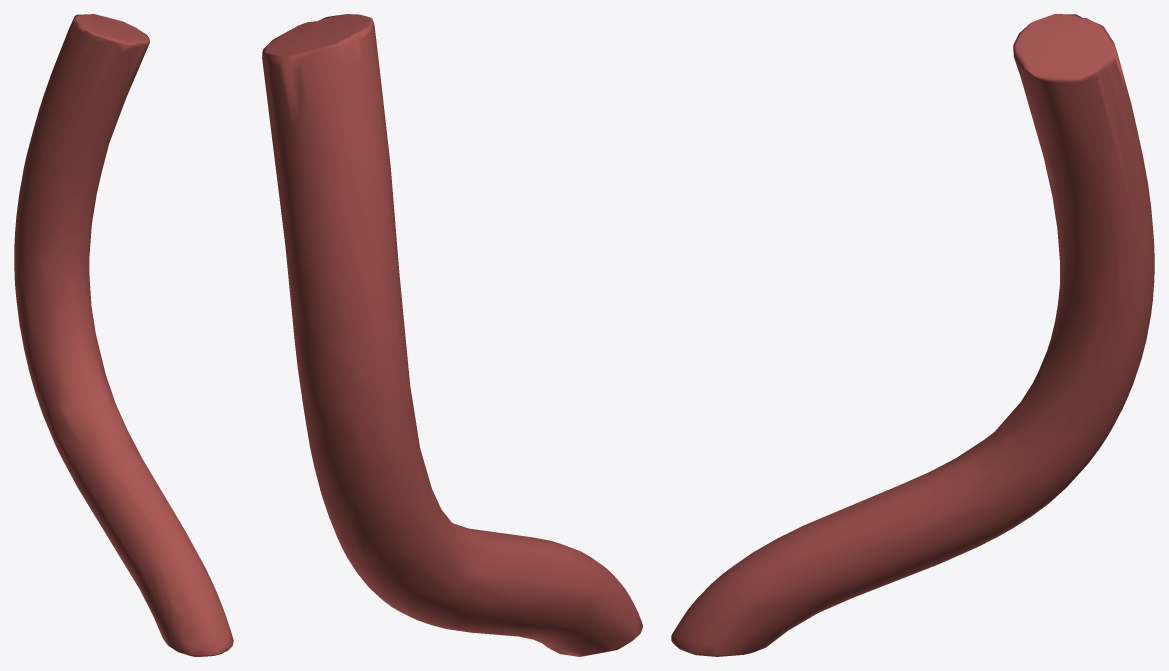
The model's file is FMA18885.glb.
3 views of the same model, side by side, from view 1: azimuth 30°, elevation 25°; view 2: azimuth 150°, elevation 25°; view 3: azimuth 270°, elevation 25° (orthographic). The views are drawn at different scales.
Visible parts, largest first — view 1: FMA18885; view 2: FMA18885; view 3: FMA18885.
Boxes of the visible parts, x1,y1,x2,y2 form: FMA18885: [14, 14, 233, 656]; FMA18885: [262, 14, 642, 656]; FMA18885: [671, 14, 1154, 656].
Size of the model in its own units: 0.0212 by 0.0909 by 0.0623.
